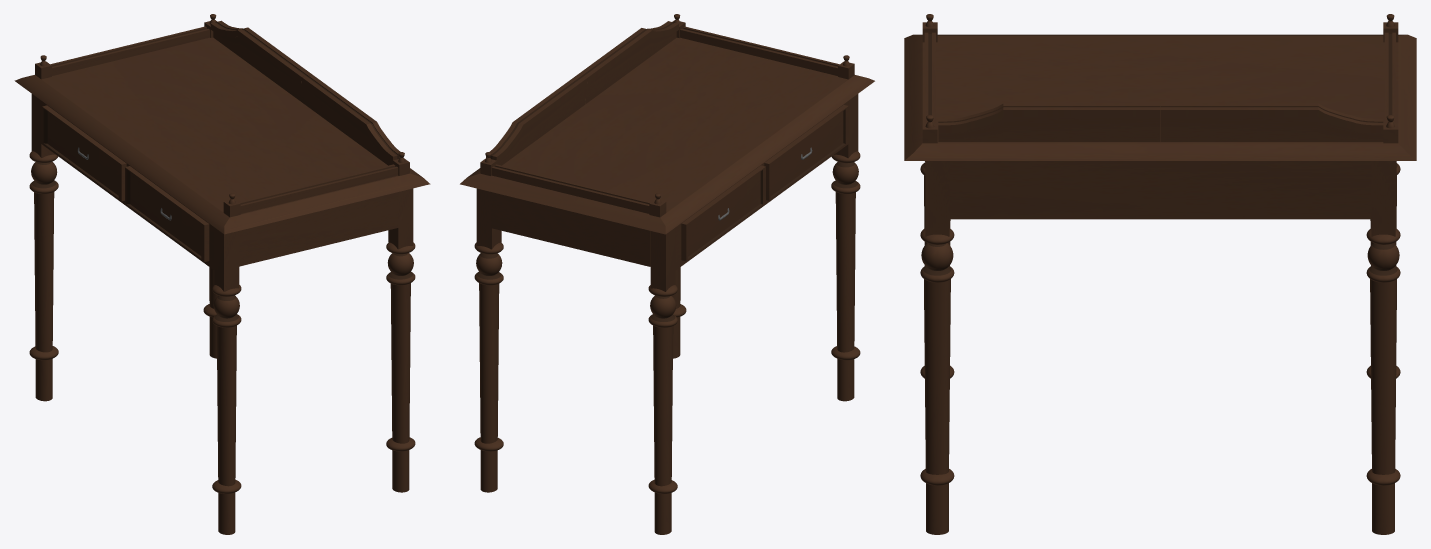
The model's file is Escrivaninha.fbx.
3 renders of one model, left to right at view 1: azimuth 30°, elevation 25°; view 2: azimuth 150°, elevation 25°; view 3: azimuth 270°, elevation 25°, orthographic. The views are drawn at different scales.
Visible parts, largest first — view 1: Cube.004; view 2: Cube.004; view 3: Cube.004.
Boxes of the visible parts, x1,y1,x2,y2 form: Cube.004: [14, 14, 430, 534]; Cube.004: [460, 14, 874, 534]; Cube.004: [904, 14, 1416, 534].
Size of the model in its own units: 161 by 258 by 283.
2 materials, 2 textured.
